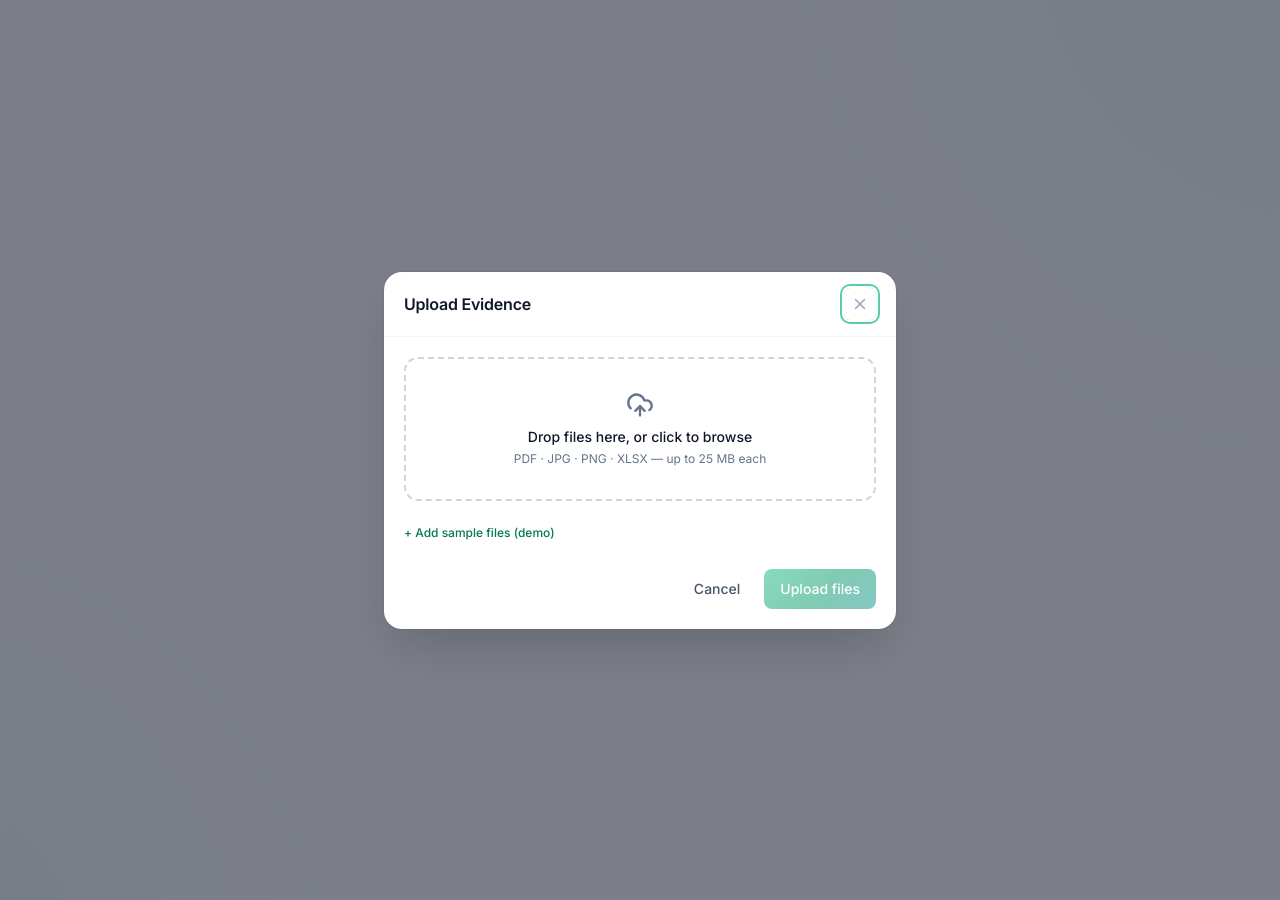
Test: EvidenceUploadModal in server mode › demo samples (no real File) still fall back to the local store
Click the button "+ Add sample files (demo)": [479, 532] box [404,516,555,548]
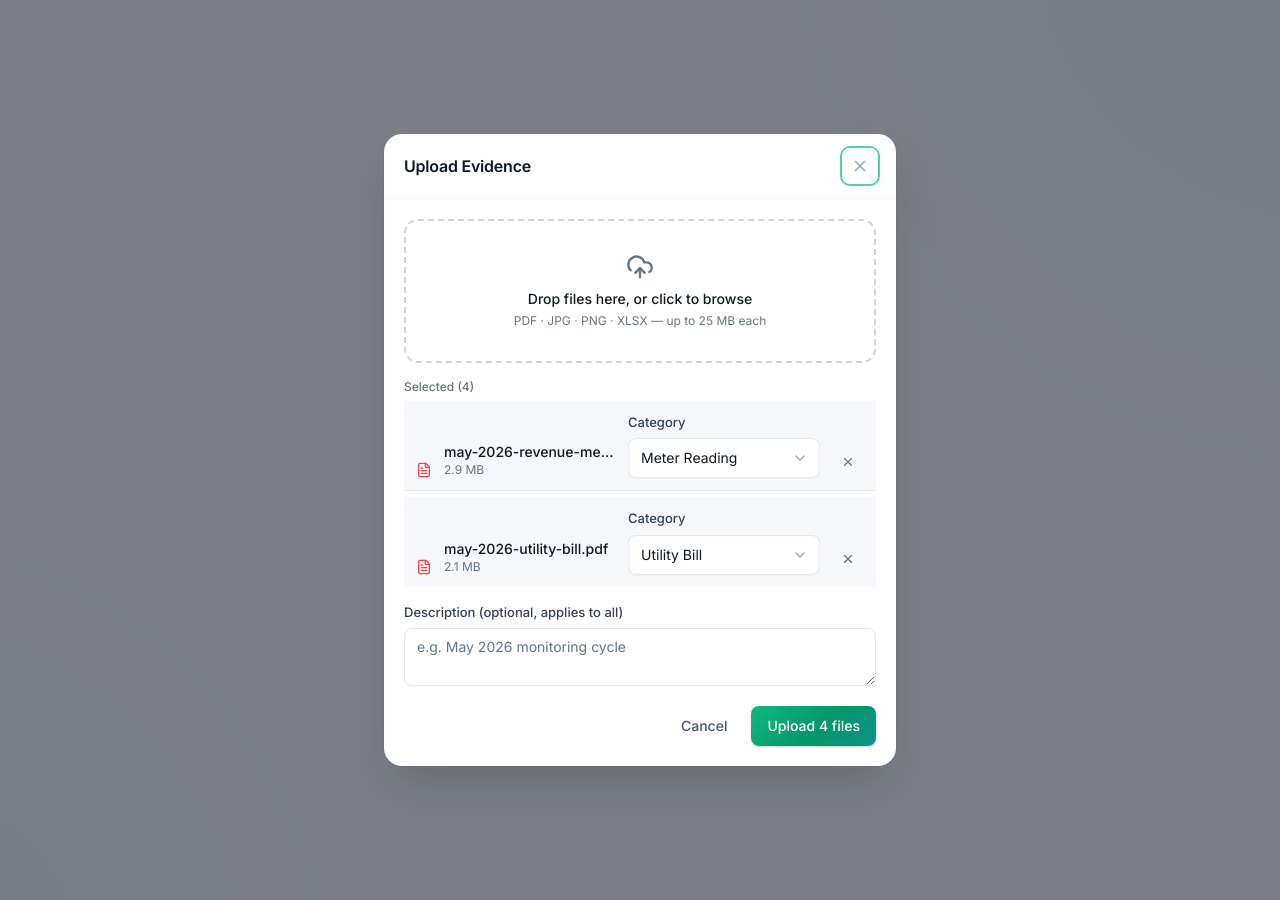
Click the button "Upload 4 files": [814, 726] box [751,706,876,746]
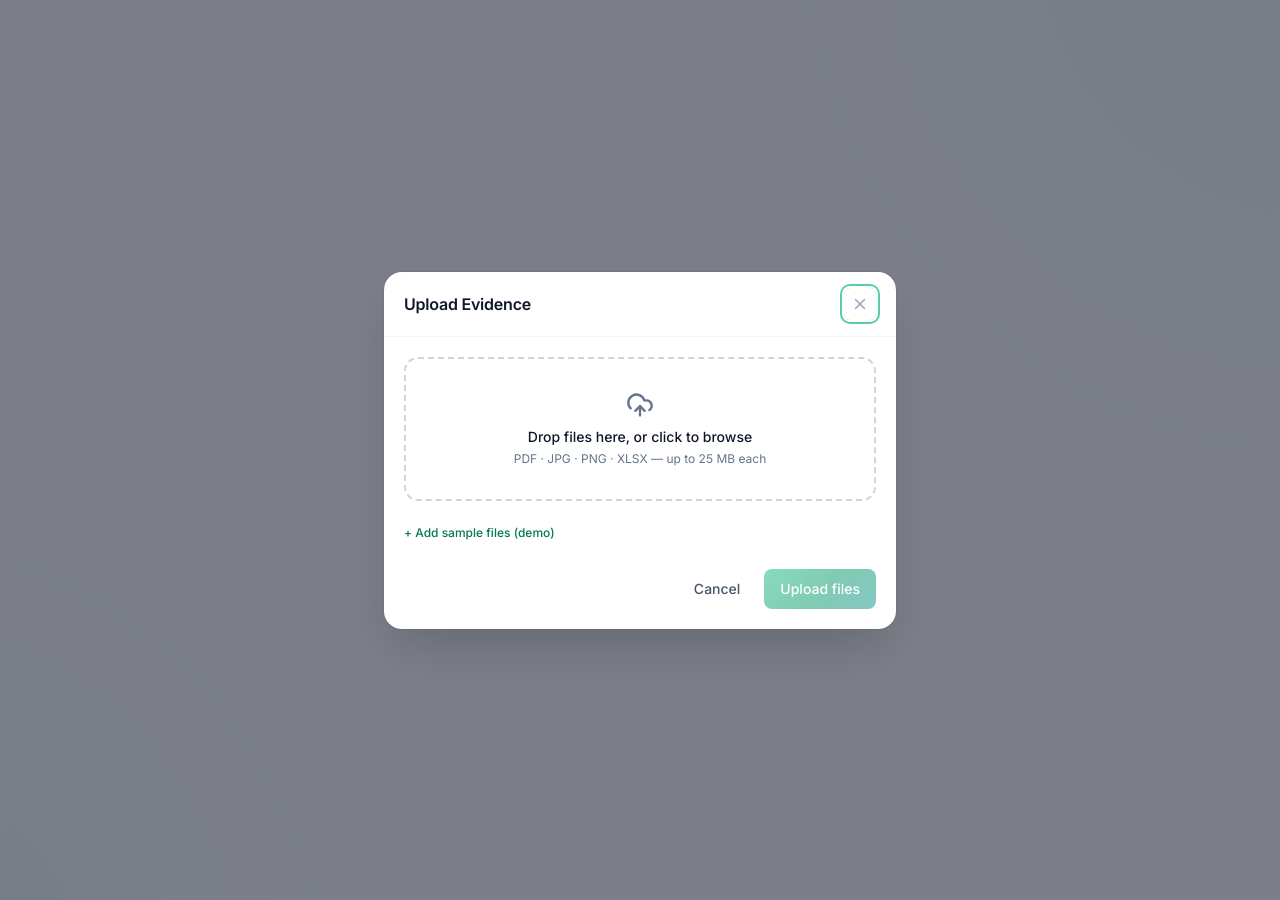
Expected: the button "Upload 4 files" is gone
